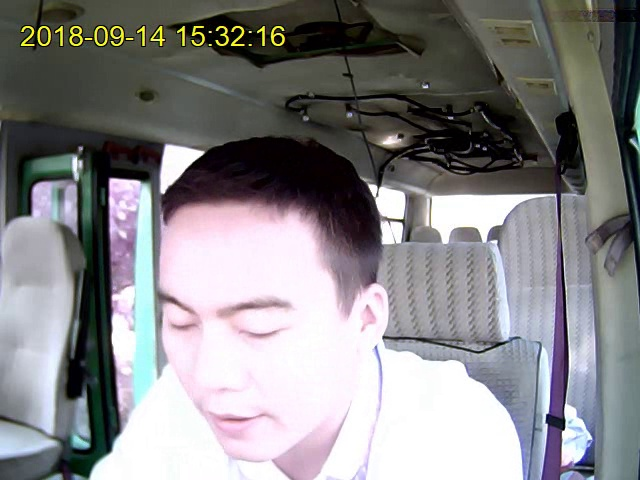closed_eye: (237, 321, 290, 342), (165, 316, 196, 333)
closed_mouth: (209, 410, 267, 435)
